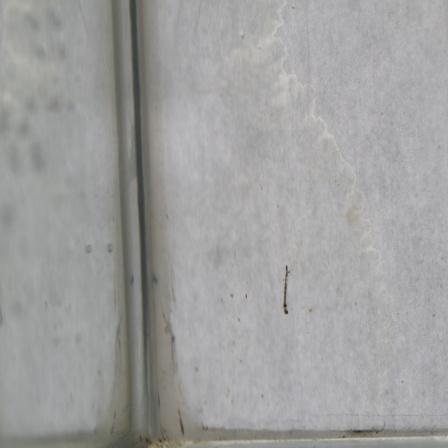Jentik-Nyamuk: (276, 263, 299, 321)
